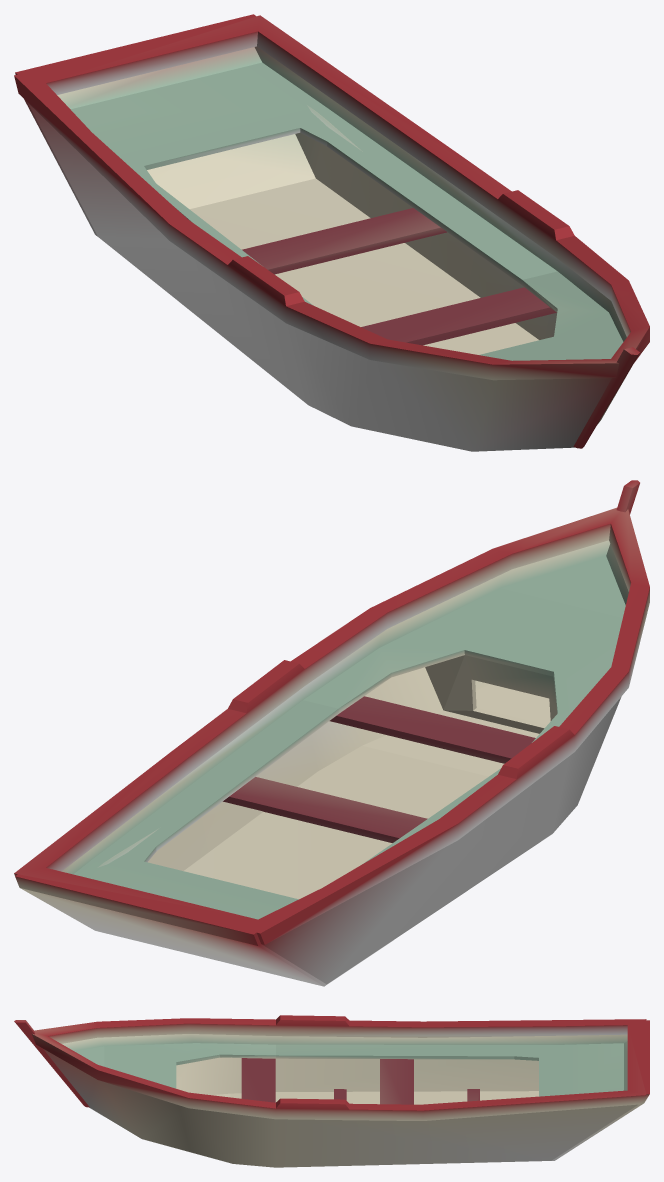
File: Getawayboat.fbx
3 views of the same model, one above another, from view 1: azimuth 30°, elevation 25°; view 2: azimuth 150°, elevation 25°; view 3: azimuth 270°, elevation 25° (orthographic). The views are drawn at different scales.
Parts seen in each view (by area): view 1: boat; view 2: boat; view 3: boat.
Part boxes in pixels (left/top/right/bottom): boat: left=14, top=14, right=649, bottom=451; boat: left=14, top=480, right=649, bottom=986; boat: left=14, top=1015, right=649, bottom=1167.
Size of the model in its own units: 1298 by 740 by 3918.
